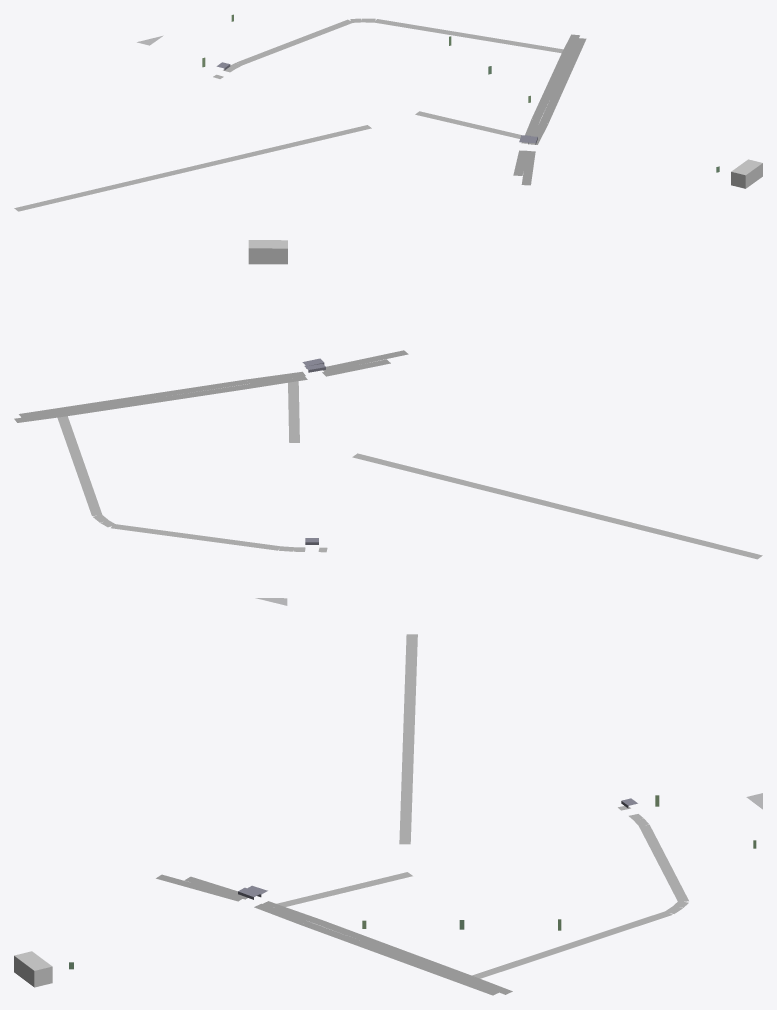
The picture shows the model from 3 angles, top to bottom: view 1: azimuth 30°, elevation 25°; view 2: azimuth 150°, elevation 25°; view 3: azimuth 270°, elevation 25°; orthographic projection. The views are drawn at different scales.
Size of the model in its own units: 526 by 13.39 by 460.
